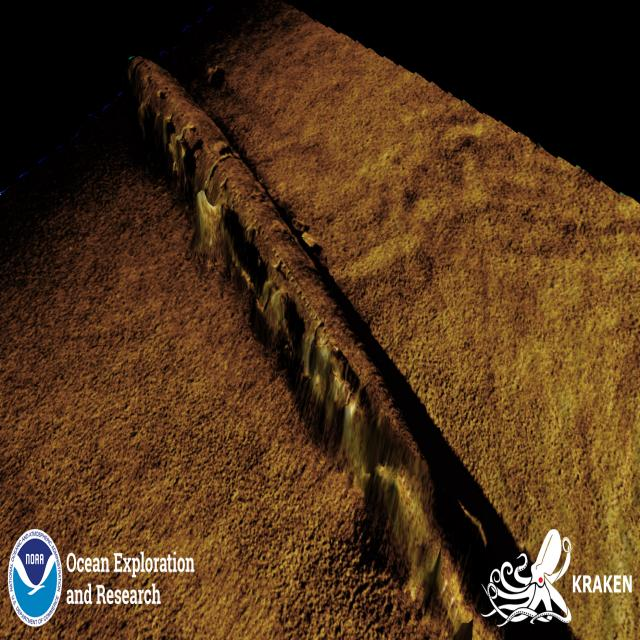ship: (119, 44, 475, 628)
